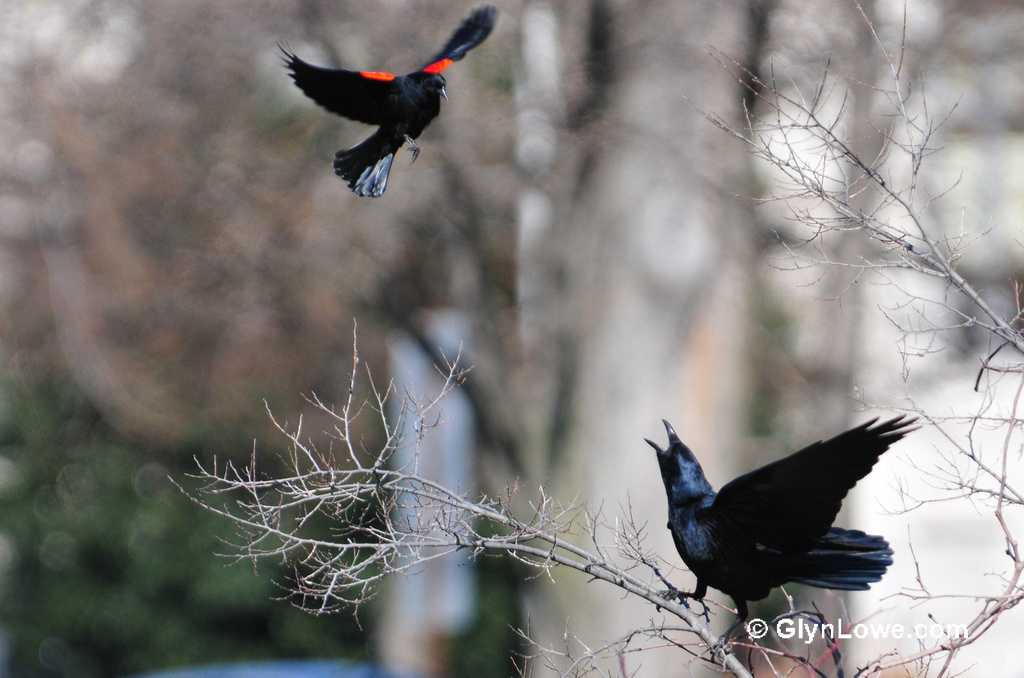Tree: (162, 0, 1024, 678)
